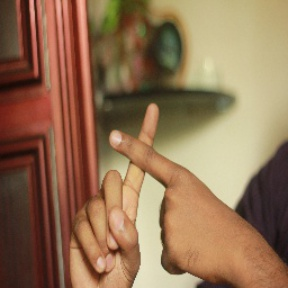X: (90, 94, 204, 232)
